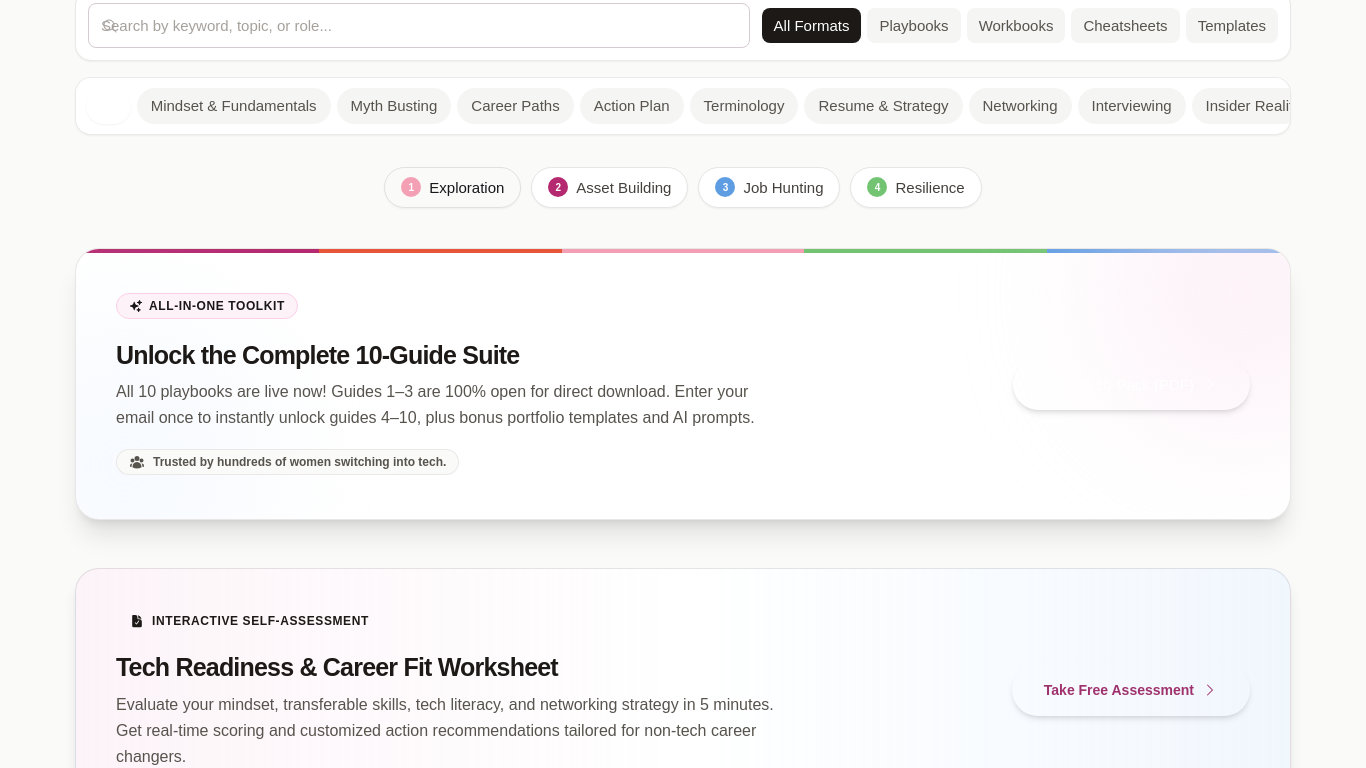
Test: ResourcesPage › opens the bundle unlock modal
(page scrolled)
Click the button "Unlock 10-Pack (PDF)". click: [1131, 384]
box: [1013,359,1250,410]
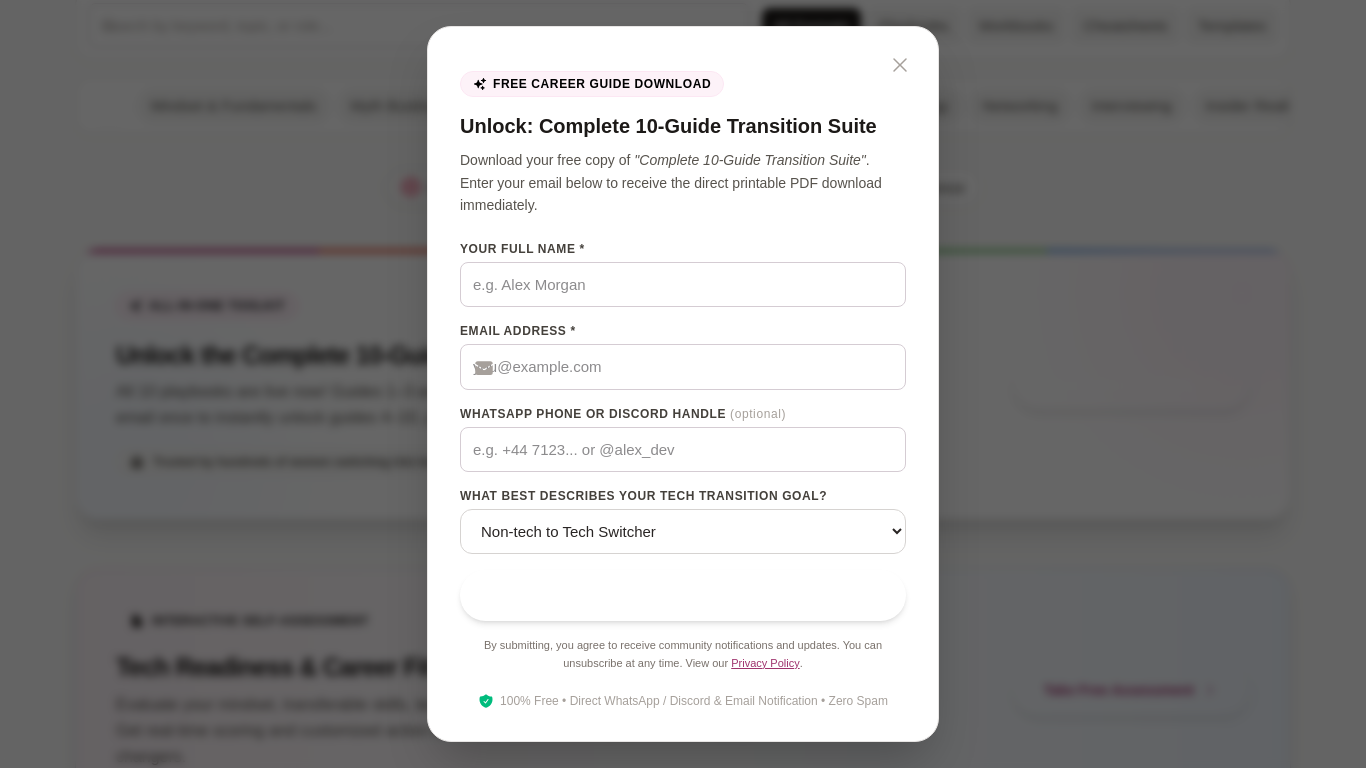
Check: the heading "Unlock: Complete 10-Guide Transition Suite" is shown, box [460,113,906,141]
Check: the field labelled "Email Address *" is shown, box [460,344,906,390]
